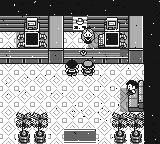main: (81, 60, 96, 76)
no-caminable: (1, 0, 160, 143), (112, 112, 144, 143), (17, 17, 48, 48), (16, 113, 48, 143), (98, 16, 128, 48), (48, 16, 64, 63), (128, 17, 144, 63), (1, 50, 48, 64), (64, 16, 96, 32), (96, 50, 128, 64), (1, 17, 16, 32), (64, 49, 79, 63)
npc: (65, 60, 79, 76), (80, 29, 96, 43), (126, 80, 138, 95)
puerta: (61, 129, 99, 143)
recuperarse: (79, 49, 96, 64)
